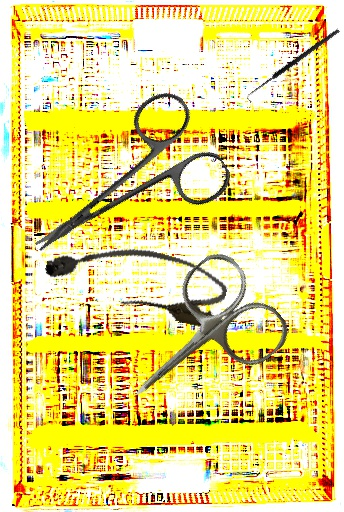Cannula: (41, 225, 232, 332)
Hook Surgical: (244, 27, 344, 104)
Iris Scissors: (2, 82, 238, 295), (98, 244, 297, 438)
